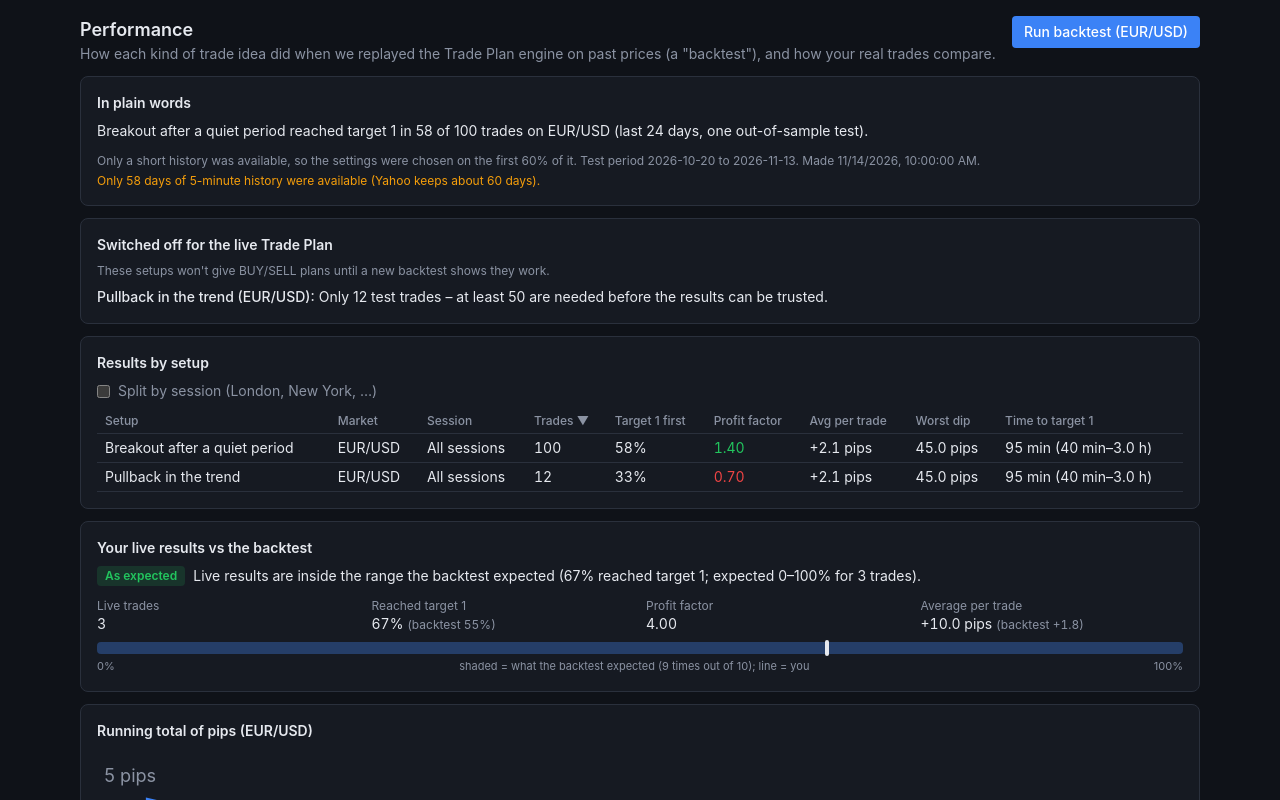
it: PerformanceTab › sorts the table and splits it by session
Expected: the element with test id "table" is shown, [80,336,1200,509]
Click the button "Profit factor".
click(748, 421)  # box [714,413,782,429]
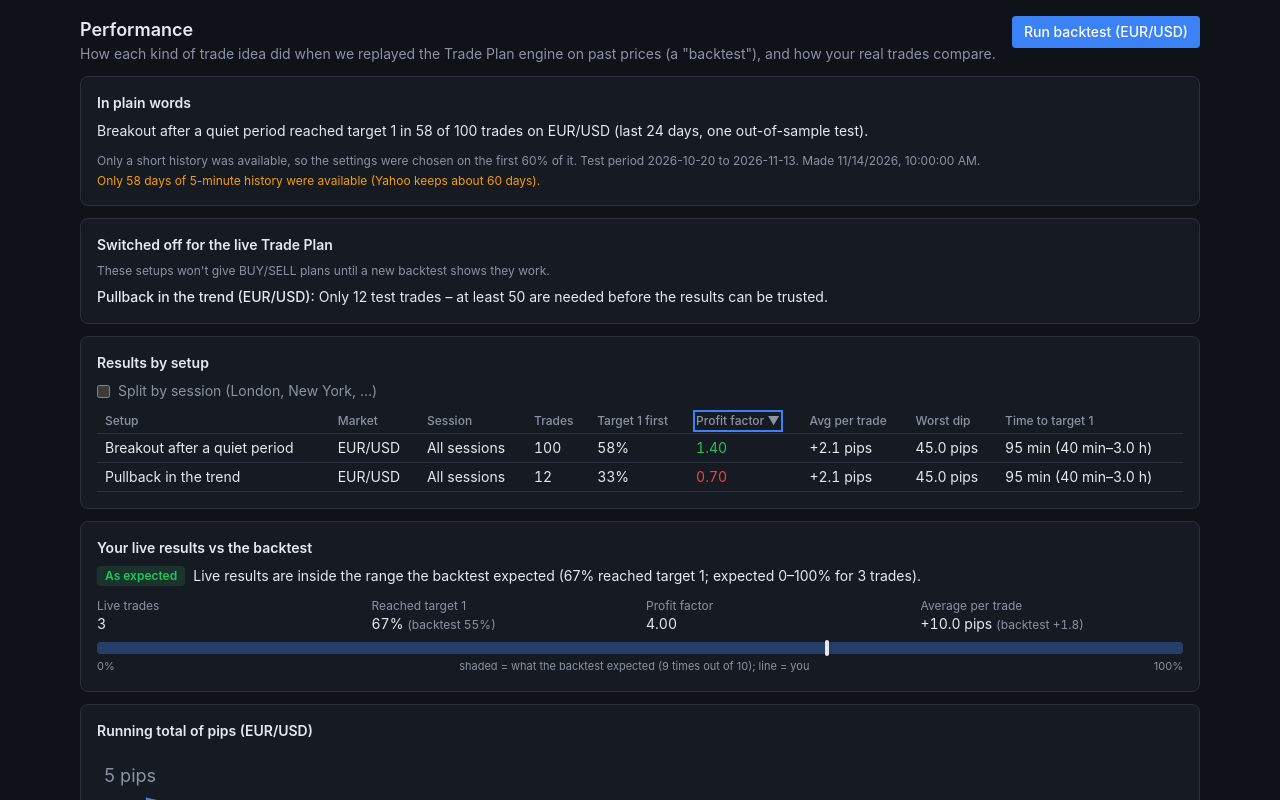
Expected: the text "Breakout after a quiet period" is shown, [97,434,330,462]
Click the button "Profit factor ▼".
click(738, 421)  # box [696,413,780,429]
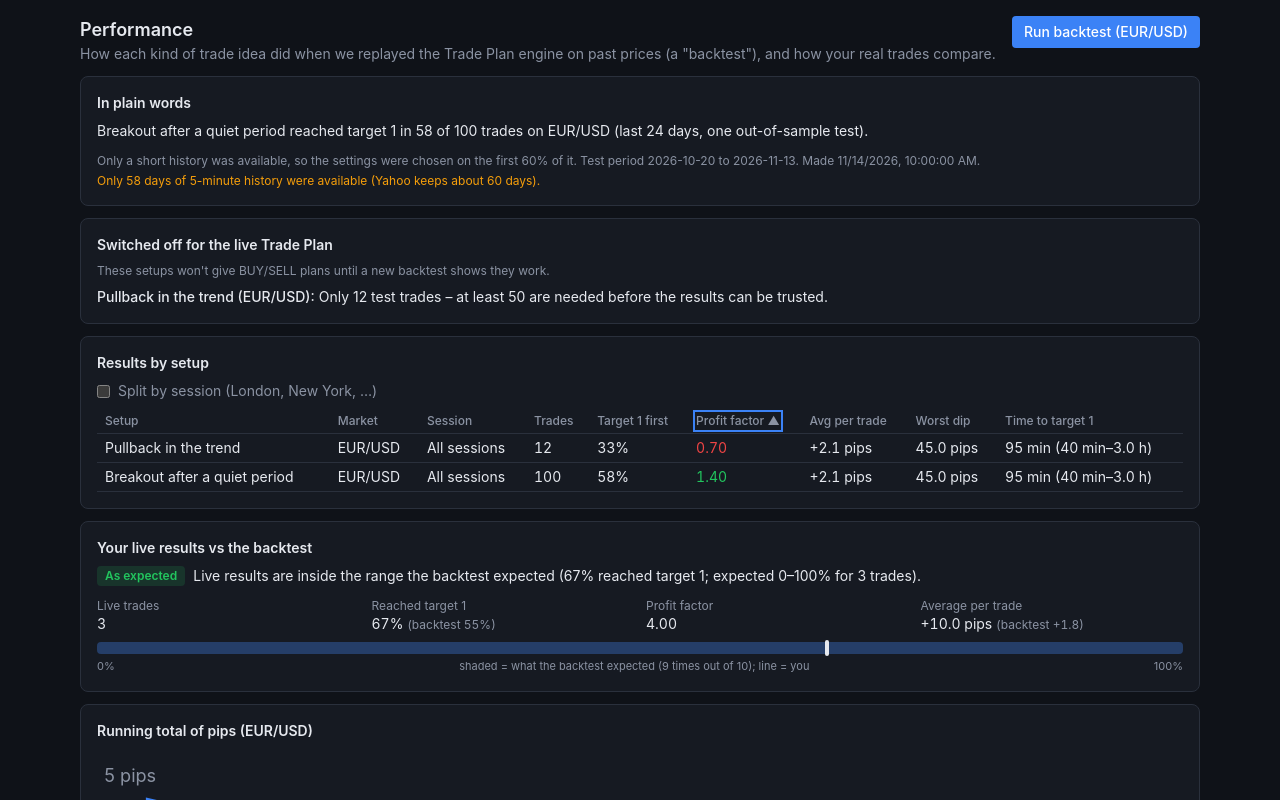
Expected: the text "Pullback in the trend" is shown, [97,434,330,462]
Click the checkbox labelled "Split by session (London, New York, …)".
click(104, 391)  # box [97,384,110,398]
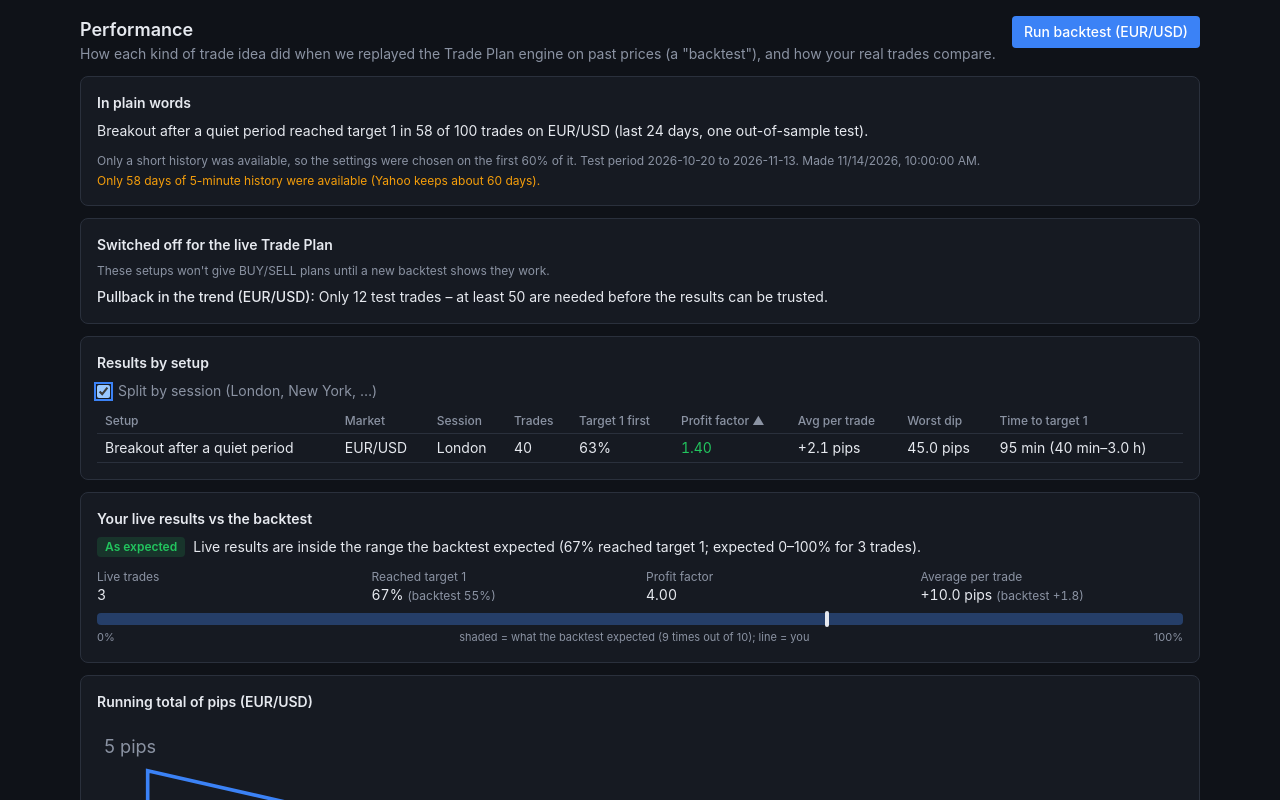
Result: the number of rows with test id "perf-row" is 1 at [97,434,1183,462]
Result: the text "London" is shown at [429,434,506,462]
